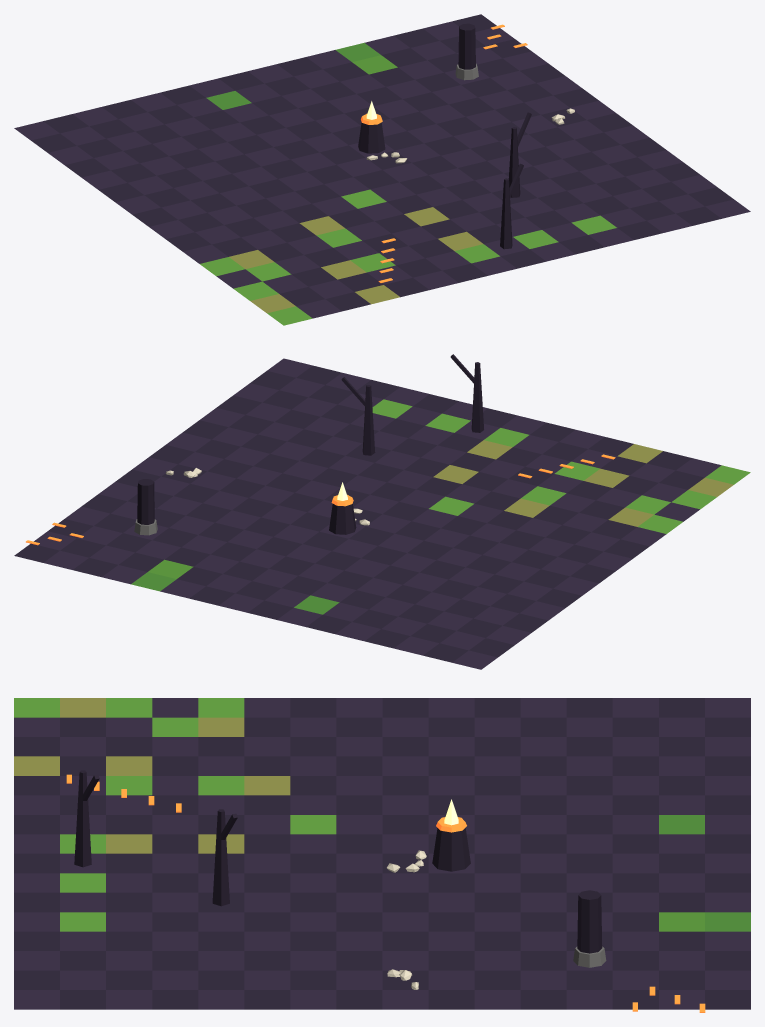
Rendered from chunk_6_23.glb.
3 views of the same model, one above another, from view 1: azimuth 30°, elevation 25°; view 2: azimuth 150°, elevation 25°; view 3: azimuth 270°, elevation 25° (orthographic). The views are drawn at different scales.
Parts seen in each view (by area): view 1: chunk_6_23; view 2: chunk_6_23; view 3: chunk_6_23.
Part boxes in pixels (left/top/right/bottom): chunk_6_23: left=14, top=14, right=750, bottom=325; chunk_6_23: left=14, top=354, right=750, bottom=669; chunk_6_23: left=14, top=698, right=750, bottom=1012.
Size of the model in its own units: 16.17 by 2.58 by 16.
